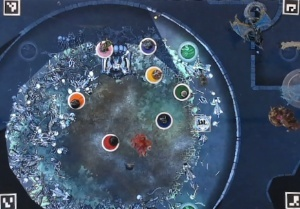blue: (151, 111, 172, 131)
green: (170, 81, 192, 100)
orange: (66, 91, 87, 111)
pink: (95, 37, 114, 58)
red: (99, 131, 121, 154)
violet: (135, 35, 157, 56)
yellow: (144, 63, 164, 85)
